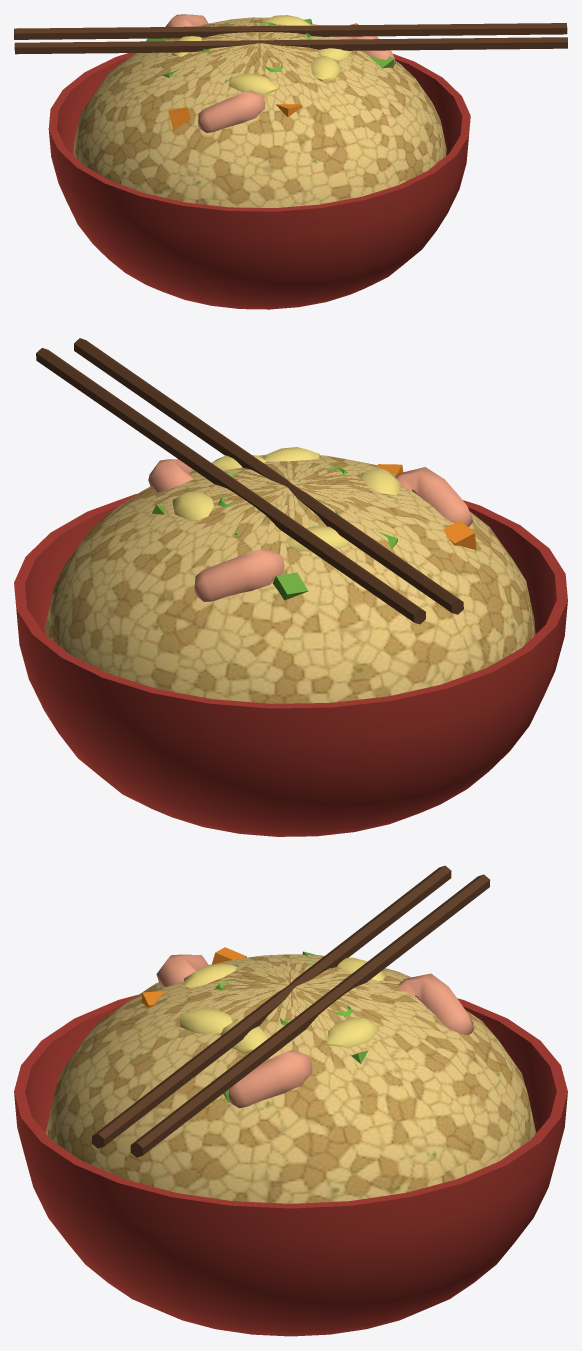
File: meal_fried_rice_bowl.glb
3 renders of one model, top to bottom at view 1: azimuth 30°, elevation 25°; view 2: azimuth 150°, elevation 25°; view 3: azimuth 270°, elevation 25°, orthographic. The views are drawn at different scales.
Visible parts, largest first — view 1: meal_fried_rice_bowl; view 2: meal_fried_rice_bowl; view 3: meal_fried_rice_bowl.
Boxes of the visible parts, x1,y1,x2,y2 form: meal_fried_rice_bowl: (14, 14, 567, 309); meal_fried_rice_bowl: (14, 338, 567, 836); meal_fried_rice_bowl: (14, 865, 567, 1336).
Size of the model in its own units: 0.2107 by 0.1045 by 0.176.
8 materials, 1 textured.
